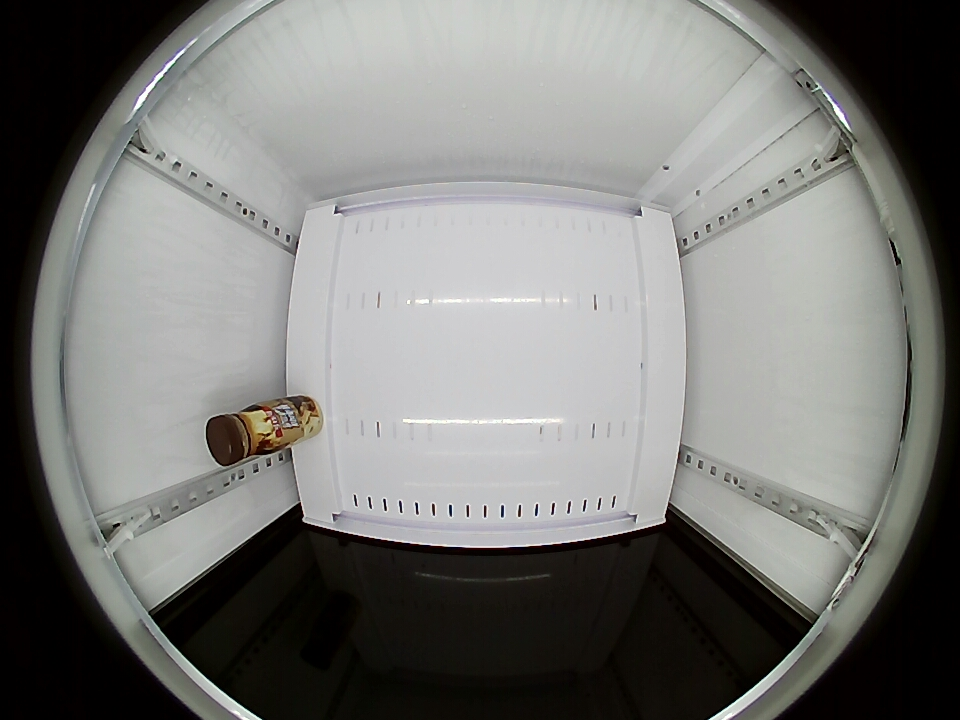lujikafei: (206, 403, 277, 466)
